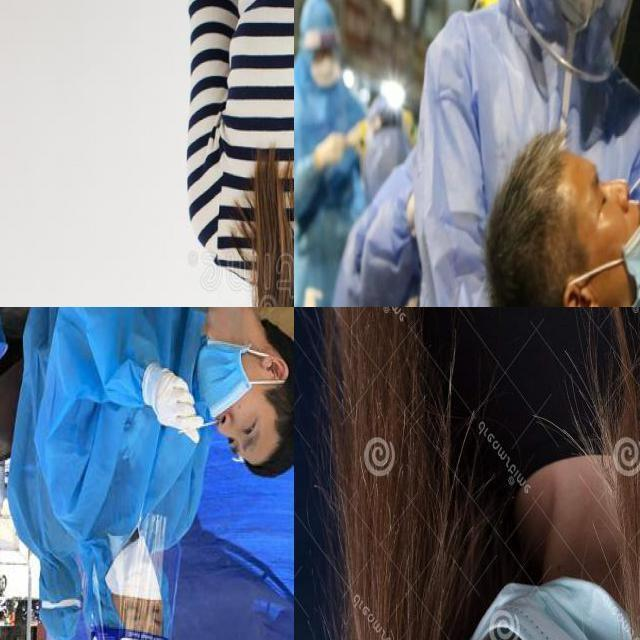hairnet: (197, 337, 288, 434), (602, 178, 640, 302)
